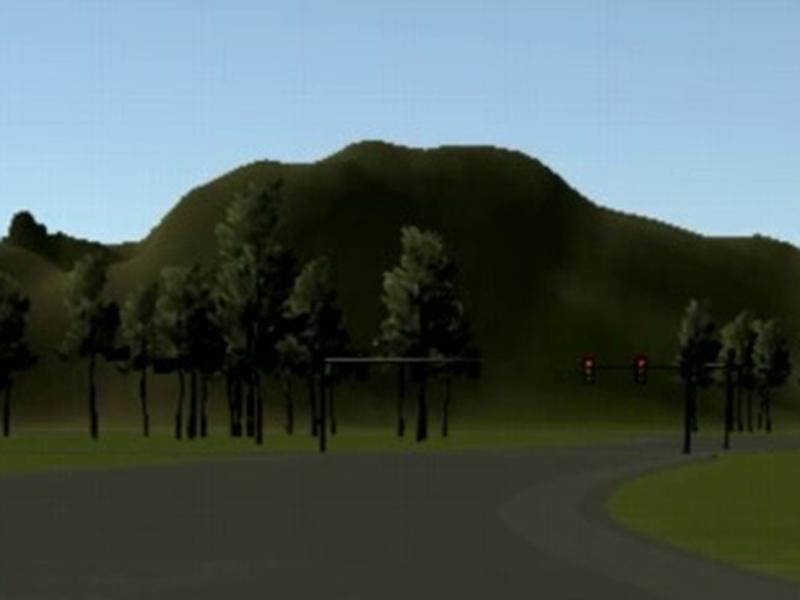Red: (635, 356, 649, 385), (584, 356, 594, 385)
